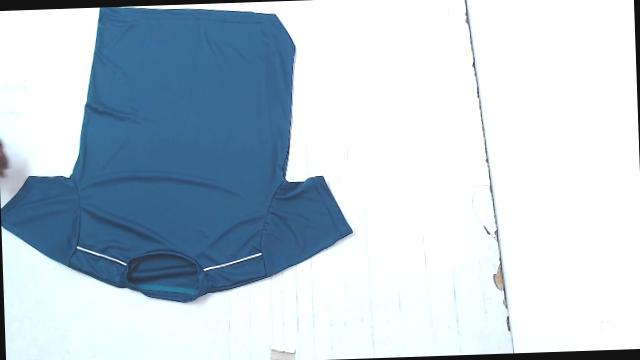new-garment: (1, 7, 351, 302)
